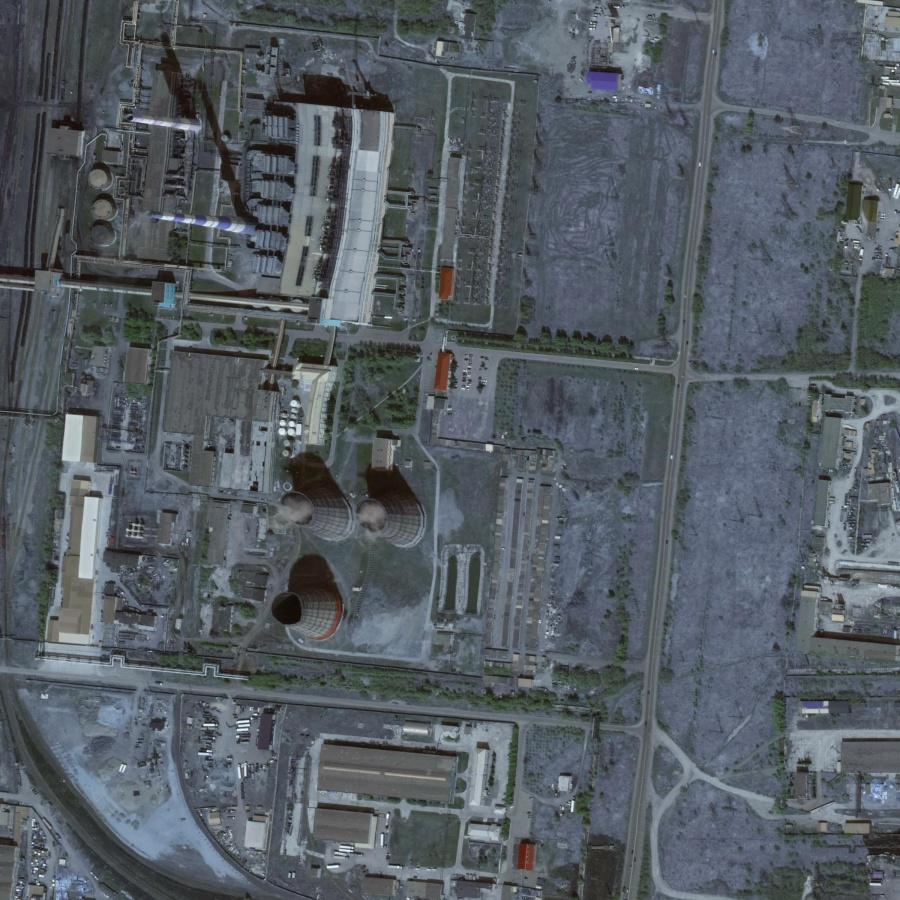PowerPlant: (107, 21, 296, 283), (263, 423, 452, 678)
